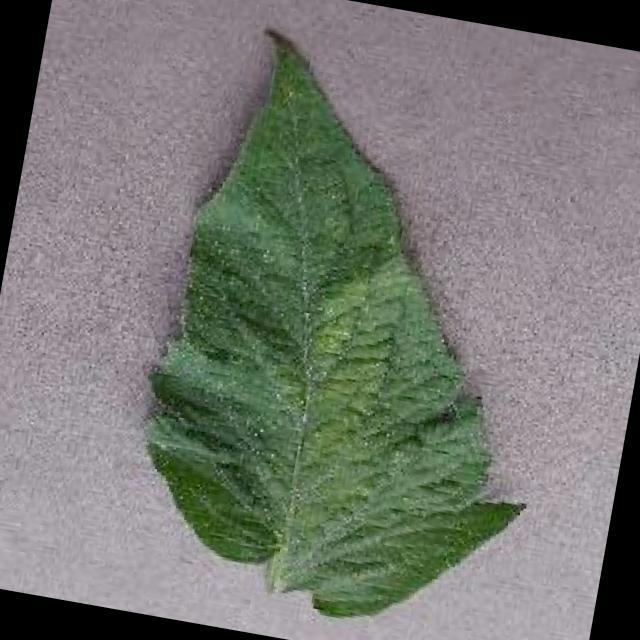Tomato spider mites leaf: (113, 8, 604, 640)
